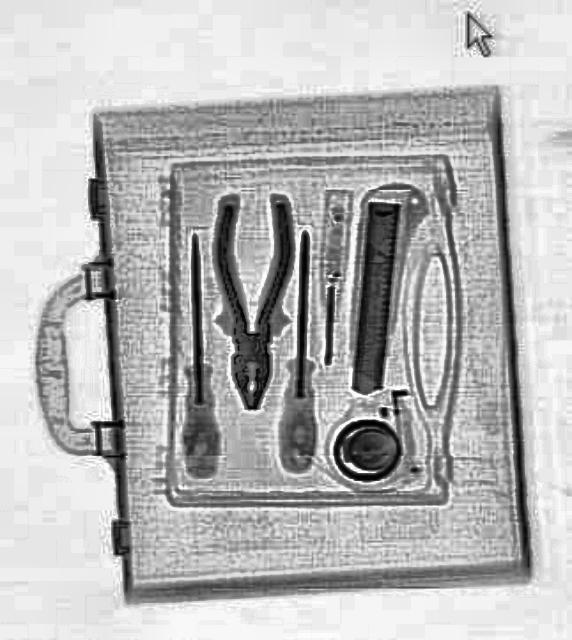Pliers: (211, 202, 291, 408)
